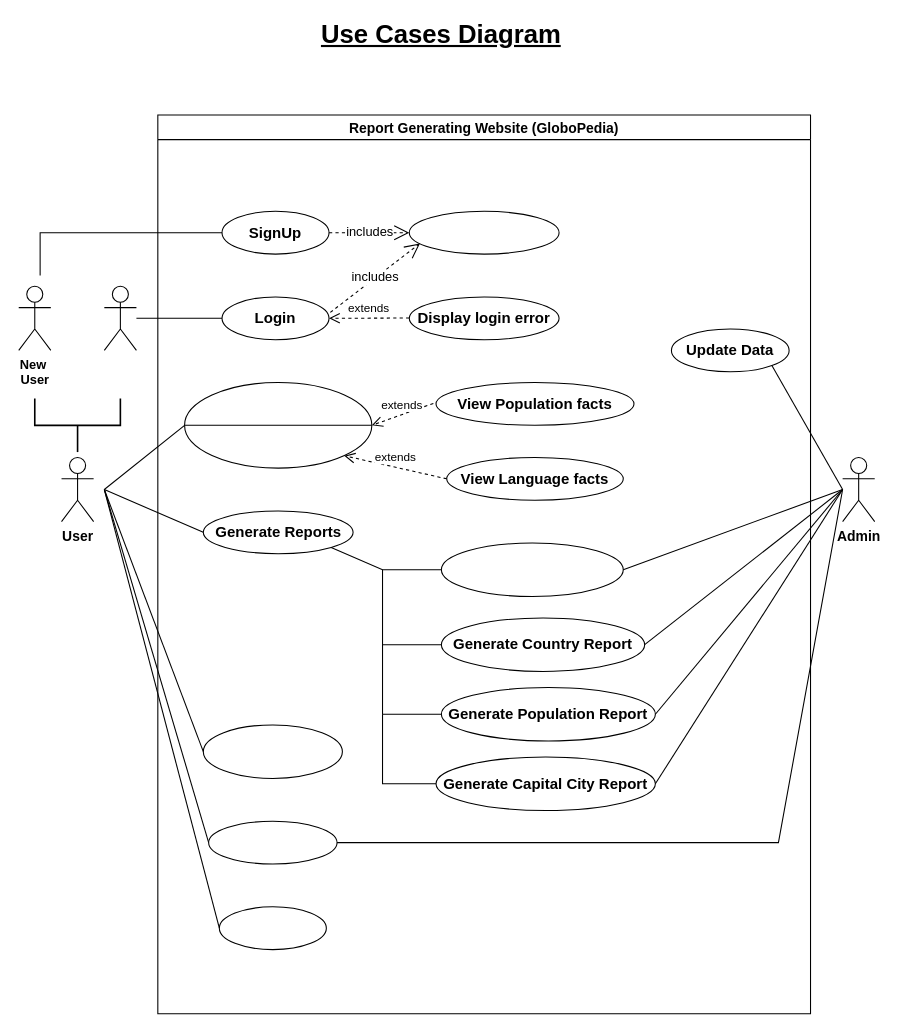
This 899x1033 diagram has some shape labels left out. Here are the shapes that lost their labels. From the top down, the box of each, then its label:
(408, 210, 559, 254): Verify Password
(103, 285, 136, 350): Existing User
(184, 381, 372, 468): Display Facts Population facts Language Facts
(440, 542, 623, 597): Generate City Report
(202, 724, 342, 778): View About Us information
(208, 820, 337, 864): Send Message
(218, 906, 326, 950): LogOut
